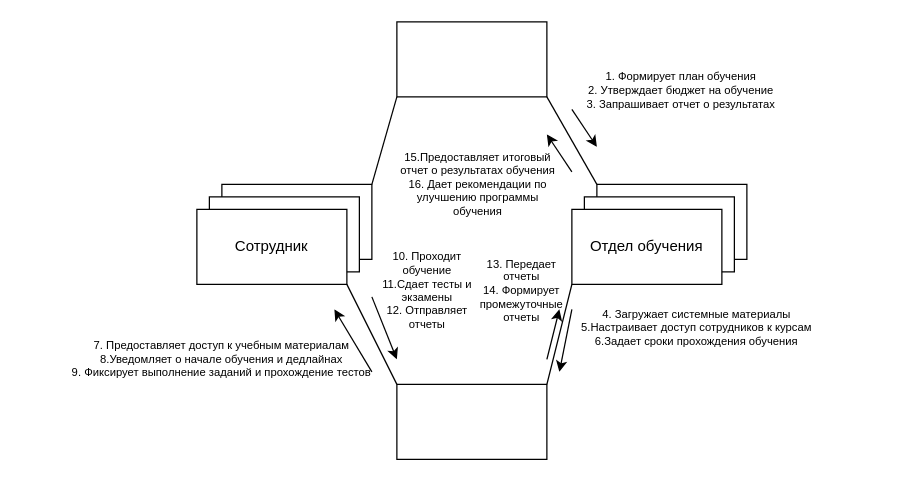
Image size: 899x481. Some labels were removed from this diagram. The shapes that lost their labels are listed below. From the top down, each one's box as (x1, y1, x2, y2) in pixels, then its label:
(396, 21, 547, 97): Компания
(396, 383, 547, 459): Система LMS
